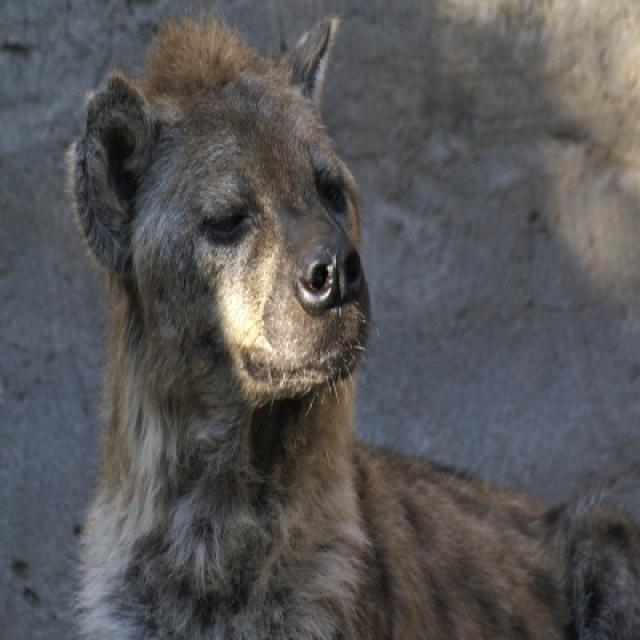hyena: (62, 3, 638, 638)
